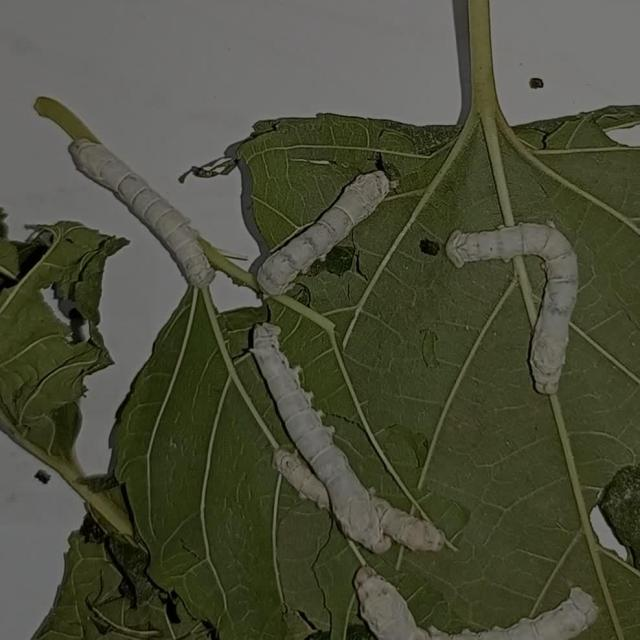Healthy: (208, 314, 477, 558), (20, 85, 222, 310), (434, 209, 632, 405), (248, 132, 417, 308), (336, 552, 606, 640)
